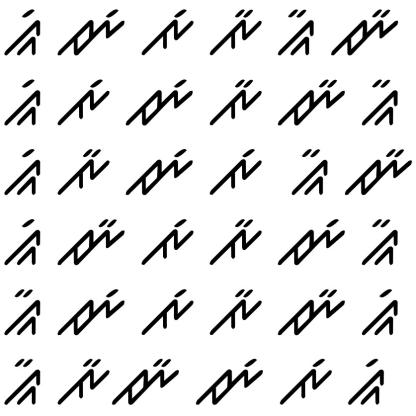an: (200, 216, 267, 270), (204, 76, 266, 126), (54, 145, 111, 199), (206, 284, 263, 338), (206, 9, 264, 60), (54, 356, 110, 405)
ang: (52, 76, 114, 130), (135, 284, 196, 338), (138, 6, 198, 58), (140, 218, 195, 272), (279, 354, 335, 406), (209, 146, 262, 200)
nggan: (284, 145, 329, 203), (362, 73, 402, 131), (274, 7, 318, 59), (361, 216, 402, 270), (2, 286, 43, 340), (3, 356, 45, 406)
nggang: (2, 215, 47, 272), (342, 356, 392, 406), (3, 8, 47, 63), (356, 288, 404, 338), (3, 79, 44, 132), (5, 145, 44, 196)
njan: (54, 214, 127, 272), (276, 77, 347, 133), (342, 147, 414, 201), (326, 8, 403, 58), (112, 358, 182, 408), (276, 288, 347, 336)
njang: (58, 281, 127, 343), (193, 352, 266, 410), (124, 73, 196, 131), (122, 145, 194, 203), (58, 3, 128, 60), (277, 216, 348, 272)
